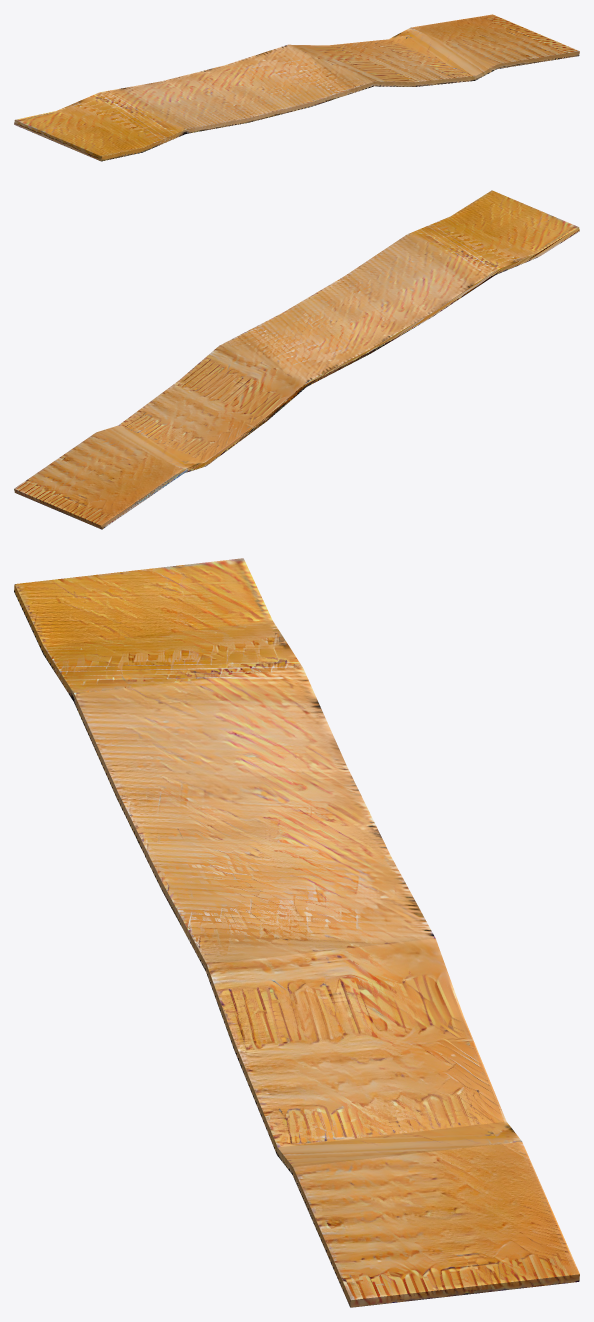
File: cardBoard.glb
3 views of the same model, one above another, from view 1: azimuth 30°, elevation 25°; view 2: azimuth 210°, elevation 25°; view 3: azimuth 270°, elevation 25° (orthographic). The views are drawn at different scales.
Bounding box in the file's own units: 27.81 × 4.52 × 11.94.
1 material, 1 textured.
